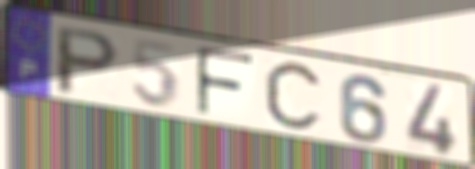4: (402, 82, 460, 158)
5: (130, 35, 184, 112)
6: (336, 71, 389, 145)
C: (261, 58, 327, 136)
F: (193, 44, 257, 121)
P: (52, 24, 123, 98)
